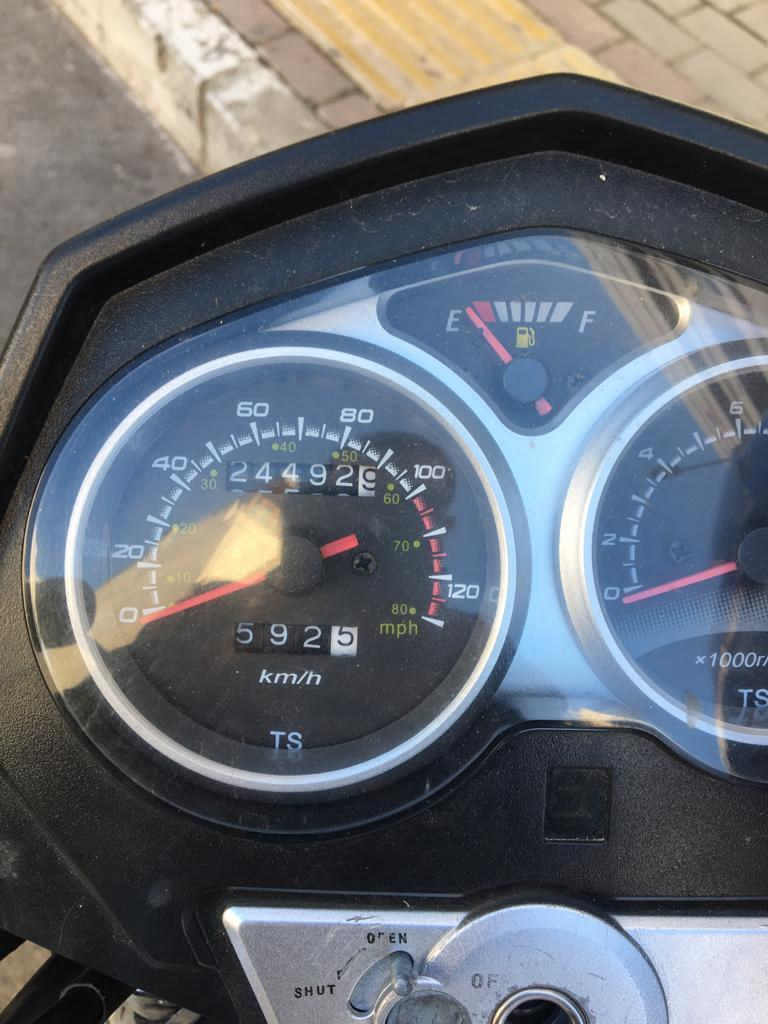2: (229, 459, 248, 482), (335, 464, 353, 487)
4: (254, 461, 272, 484), (280, 462, 299, 482)
9: (309, 463, 327, 486), (362, 468, 377, 491)
odometer: (223, 458, 378, 499)
